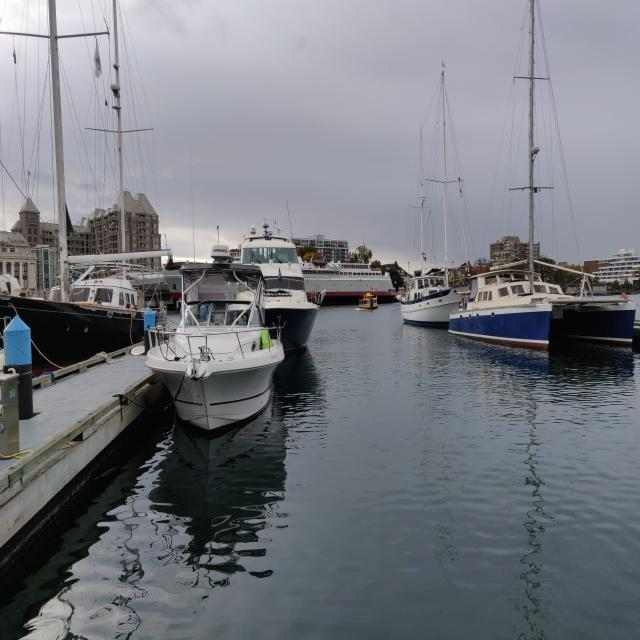boat: (448, 0, 638, 352), (0, 0, 168, 384), (145, 245, 285, 437), (401, 61, 477, 326), (226, 214, 325, 353), (167, 257, 400, 316), (359, 292, 378, 310)
